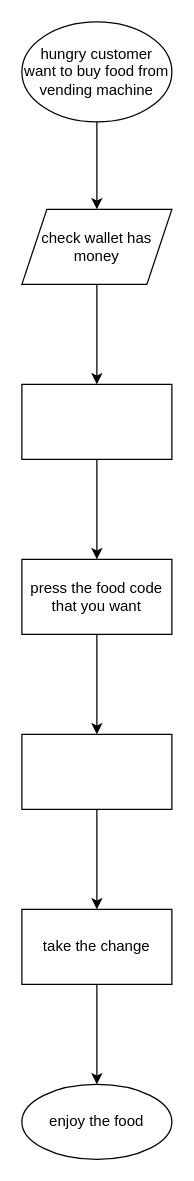
This 194x1181 diagram has some shape labels left out. The centre of each missing label's shape, as x and y in pixels:
"insert money into machine" goes at (96,421).
"take the food" goes at (96,771).
